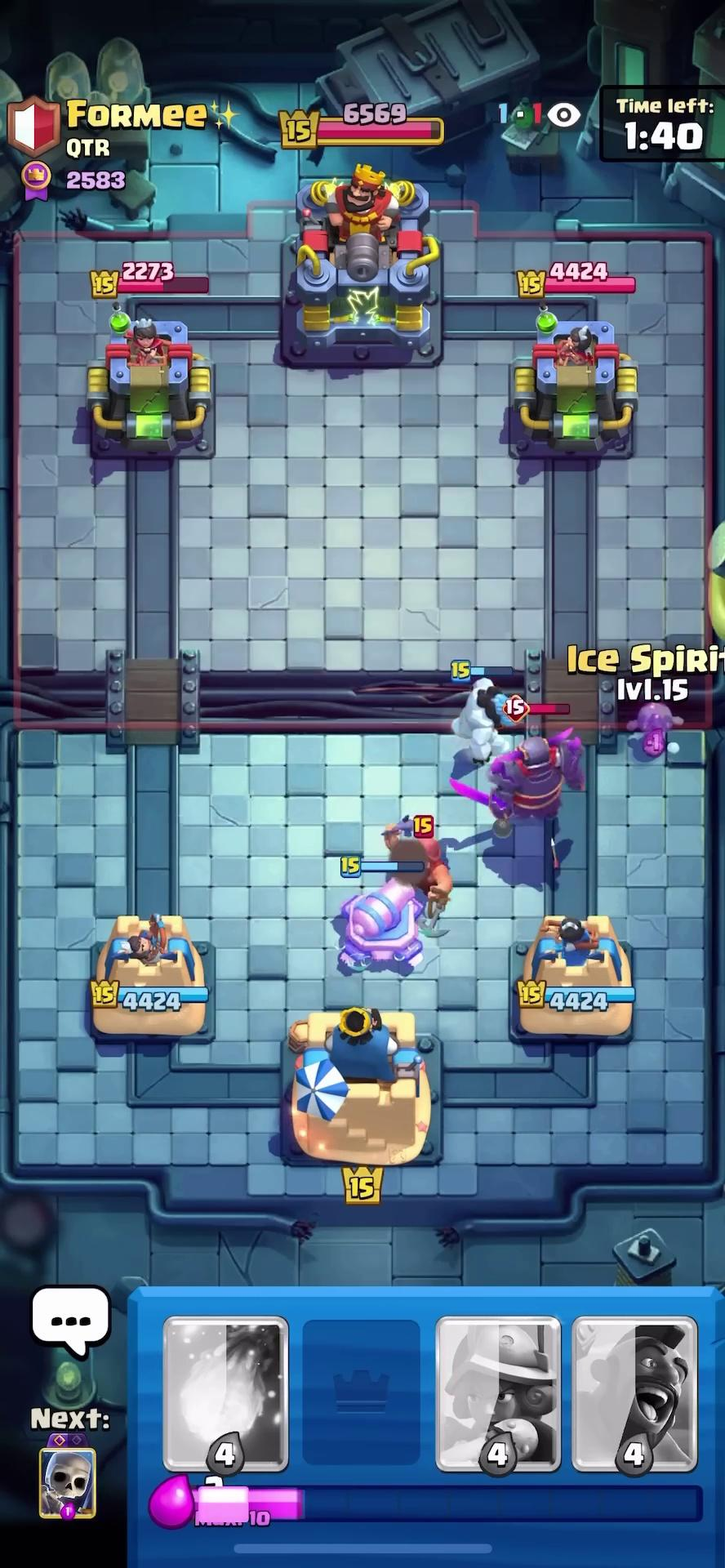cannon: (325, 860, 437, 972)
ice_golem: (441, 649, 520, 757)
